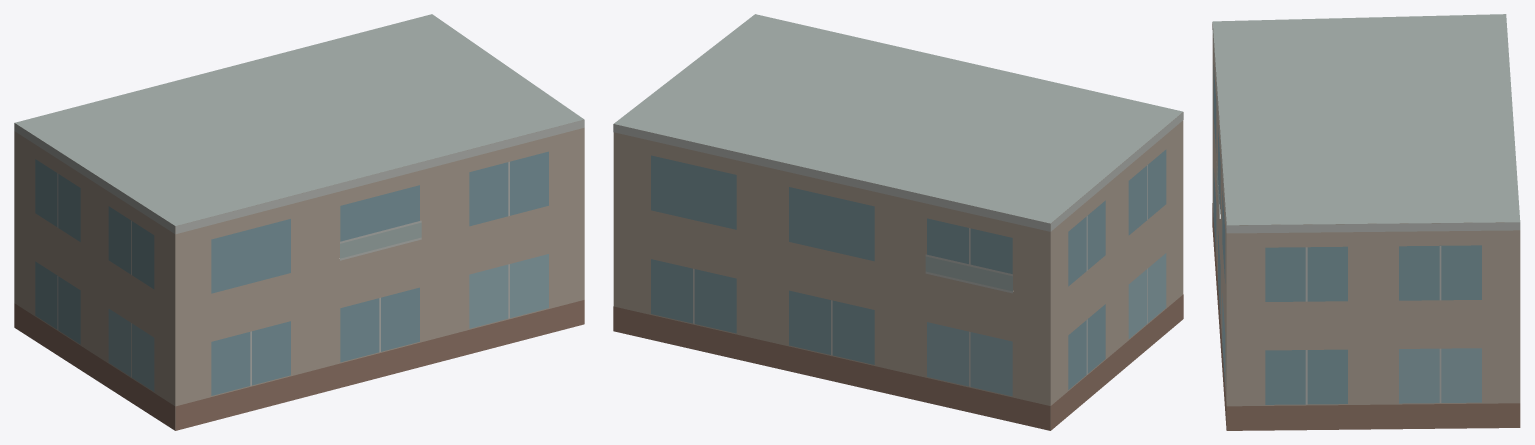
The model's file is survey-upis-32777880.glb.
3 renders of one model, left to right at view 1: azimuth 30°, elevation 25°; view 2: azimuth 150°, elevation 25°; view 3: azimuth 270°, elevation 25°, orthographic.
Visible parts, largest first — view 1: survey-upis-32777880.tmp; view 2: survey-upis-32777880.tmp; view 3: survey-upis-32777880.tmp.
Part boxes in pixels (x1=…): survey-upis-32777880.tmp: x1=14, y1=14, x2=584, y2=430; survey-upis-32777880.tmp: x1=613, y1=14, x2=1183, y2=430; survey-upis-32777880.tmp: x1=1212, y1=14, x2=1520, y2=430.
Size of the model in its own units: 13.45 by 6.1 by 8.28.
